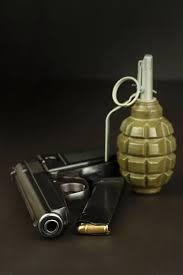Grenade: (102, 52, 176, 196)
Pistol: (7, 146, 118, 238)
